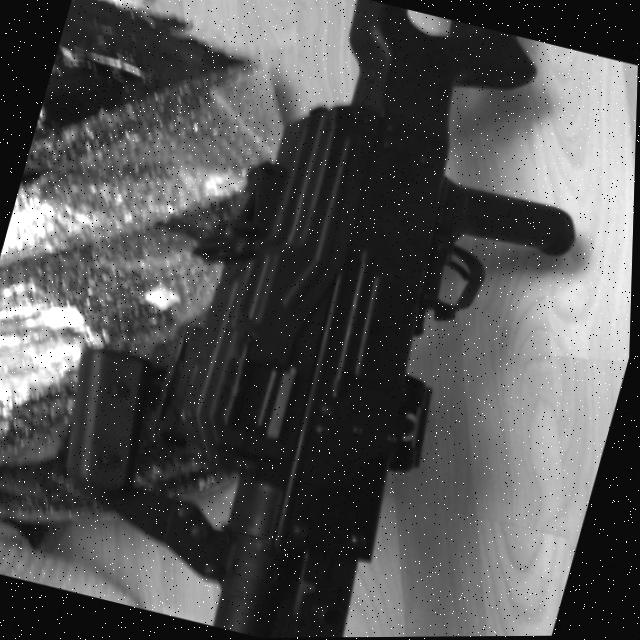firearm: (17, 0, 627, 640)
